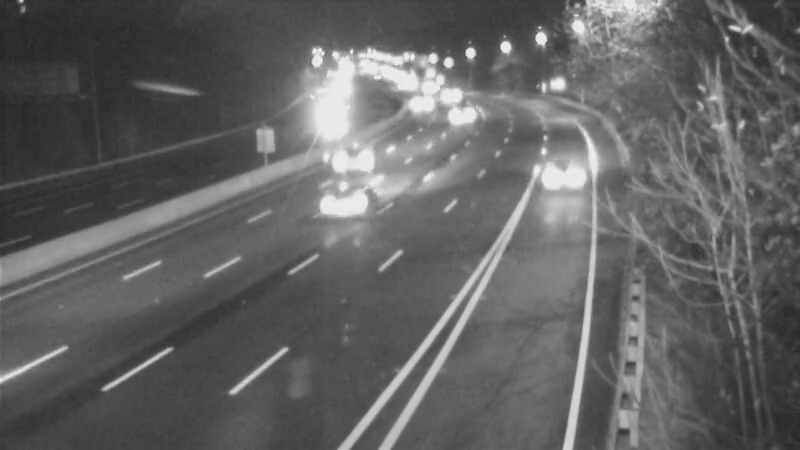vehicle: (521, 135, 601, 215), (309, 118, 389, 198), (310, 161, 390, 241), (427, 70, 477, 120), (389, 78, 439, 128), (435, 87, 485, 137), (303, 99, 353, 149)
